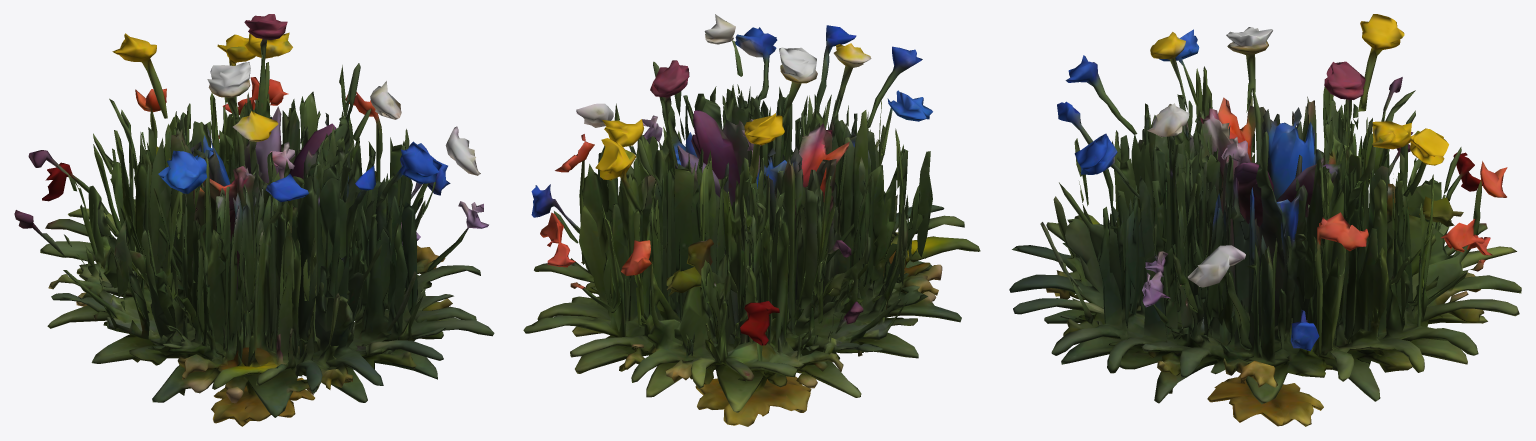
Rendered from nature-flowers-wild.glb.
3 renders of one model, left to right at view 1: azimuth 30°, elevation 25°; view 2: azimuth 150°, elevation 25°; view 3: azimuth 270°, elevation 25°, orthographic. The views are drawn at different scales.
Visible parts, largest first — view 1: tripo_node_cd9587ad-5d3d-4356-a198-bb0f320ee7fd; view 2: tripo_node_cd9587ad-5d3d-4356-a198-bb0f320ee7fd; view 3: tripo_node_cd9587ad-5d3d-4356-a198-bb0f320ee7fd.
Part boxes in pixels (<box>): tripo_node_cd9587ad-5d3d-4356-a198-bb0f320ee7fd: <box>14,14,494,426</box>; tripo_node_cd9587ad-5d3d-4356-a198-bb0f320ee7fd: <box>523,14,980,426</box>; tripo_node_cd9587ad-5d3d-4356-a198-bb0f320ee7fd: <box>1009,14,1521,426</box>.
Bounding box in the file's own units: 0.4419 × 0.4 × 0.5022.
1 material, 1 textured.
